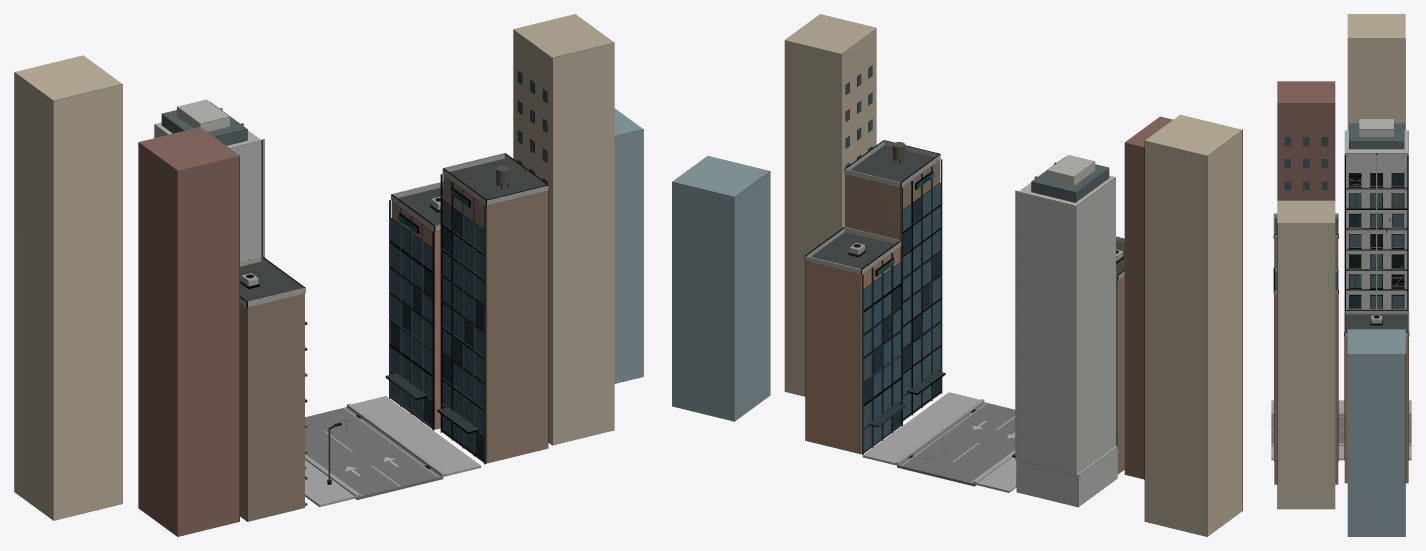
File: city_hd_04.glb
3 views of the same model, side by side, from view 1: azimuth 30°, elevation 25°; view 2: azimuth 150°, elevation 25°; view 3: azimuth 270°, elevation 25° (orthographic). The views are drawn at different scales.
Visible parts, largest first — view 1: Background city building, CITY_PBR_asphalt, CITY_PBR_pavement, CITY_curb; view 2: Background city building, CITY_PBR_asphalt, CITY_PBR_pavement, CITY_curb; view 3: Background city building, CITY_PBR_asphalt, CITY_PBR_pavement.
Part boxes in pixels (x1=…): Background city building: x1=14, y1=14, x2=643, y2=536; CITY_PBR_asphalt: x1=305, y1=407, x2=443, y2=499; CITY_PBR_pavement: x1=305, y1=396, x2=480, y2=507; CITY_curb: x1=305, y1=403, x2=444, y2=498; Background city building: x1=672, y1=14, x2=1242, y2=536; CITY_PBR_asphalt: x1=897, y1=402, x2=1015, y2=486; CITY_PBR_pavement: x1=862, y1=392, x2=1016, y2=492; CITY_curb: x1=895, y1=399, x2=1015, y2=484; Background city building: x1=1273, y1=14, x2=1409, y2=536; CITY_PBR_asphalt: x1=1271, y1=415, x2=1411, y2=443; CITY_PBR_pavement: x1=1271, y1=400, x2=1411, y2=460.
Bounding box in the file's own units: 57.3 × 39.26 × 16.
Materials: 6 (1 with a texture image).
